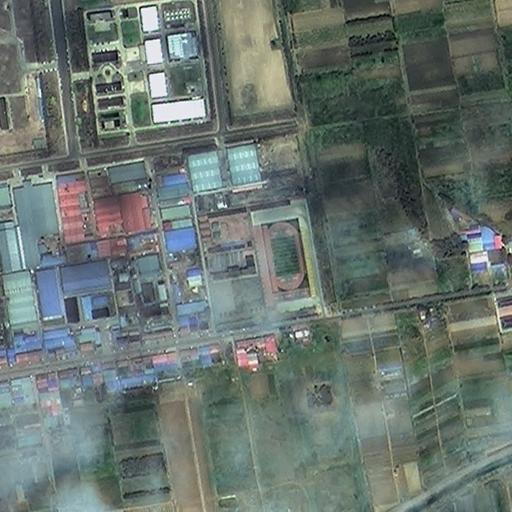school: (203, 196, 320, 330)
